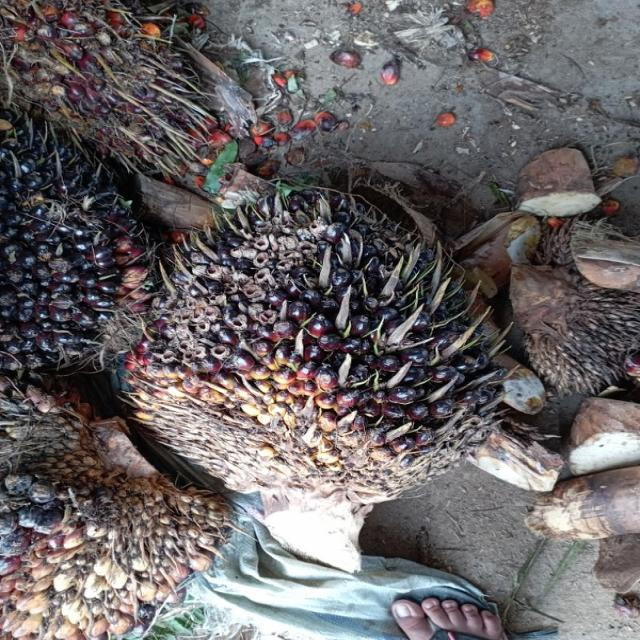fraksi 00: (140, 188, 494, 487), (0, 121, 182, 383)
